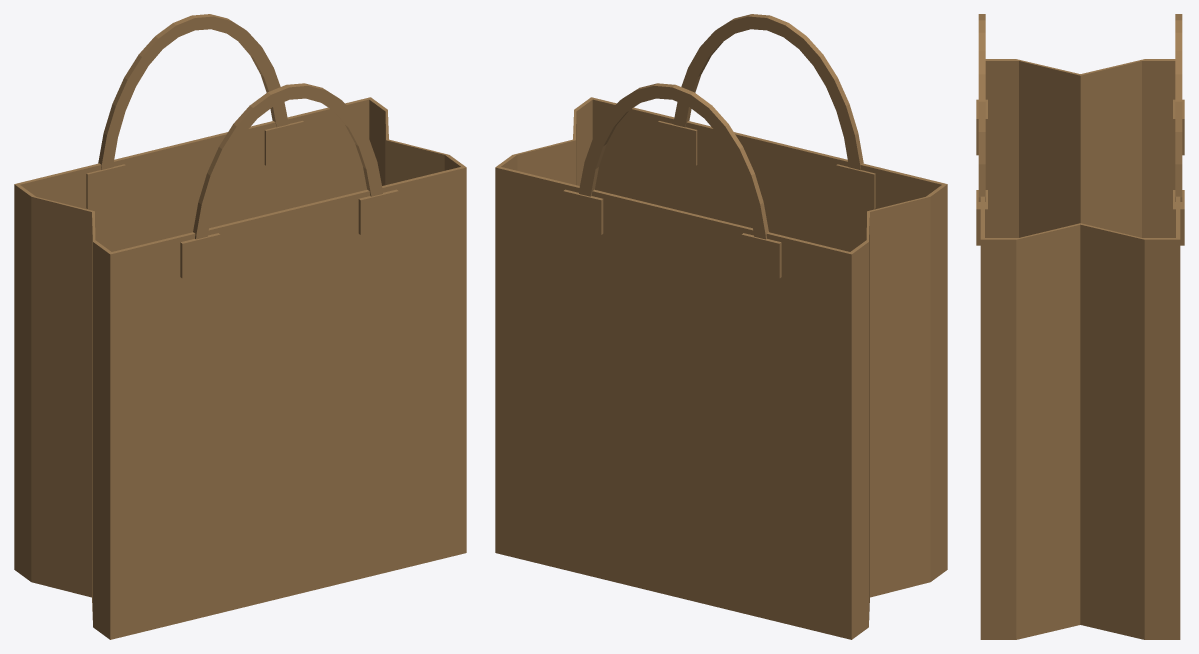
File: NEW_RECOVERY_115_LOD1.glb
3 views of the same model, side by side, from view 1: azimuth 30°, elevation 25°; view 2: azimuth 150°, elevation 25°; view 3: azimuth 270°, elevation 25° (orthographic). The views are drawn at different scales.
Parts seen in each view (by area): view 1: Shopping_bag_finished_shell; view 2: Shopping_bag_finished_shell; view 3: Shopping_bag_finished_shell.
Part boxes in pixels (bbox=[...]): Shopping_bag_finished_shell: bbox=[14, 14, 466, 639]; Shopping_bag_finished_shell: bbox=[495, 14, 947, 639]; Shopping_bag_finished_shell: bbox=[976, 14, 1184, 639].
Bounding box in the file's own units: 0.3 × 0.41 × 0.146.
